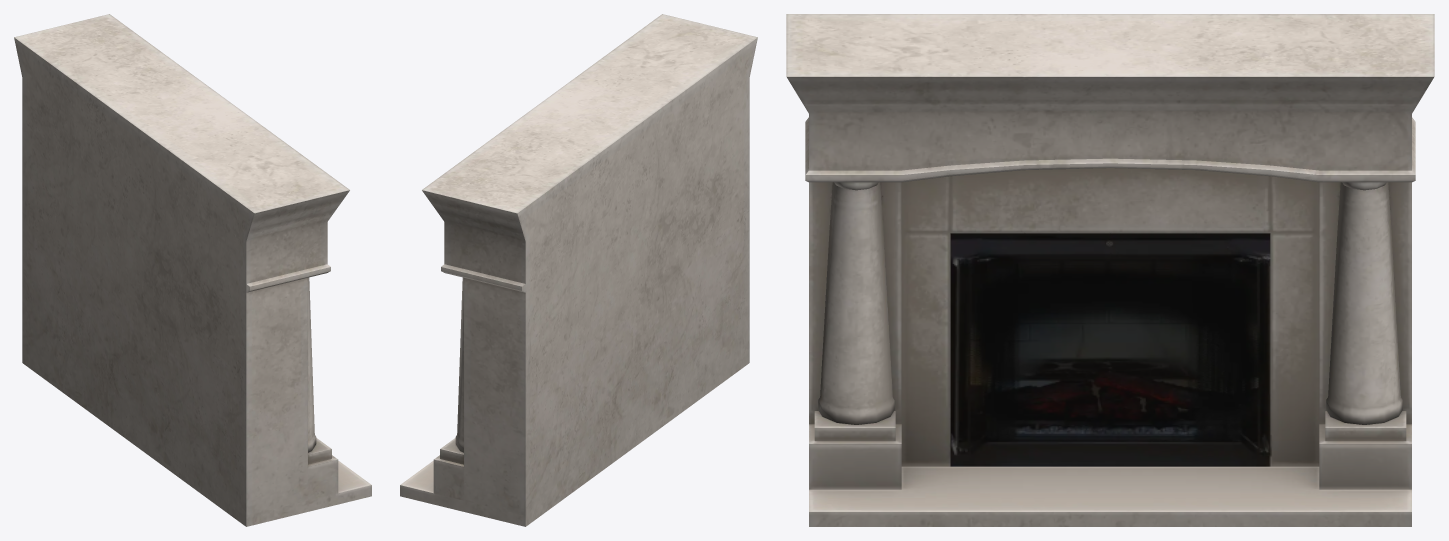
File: fireplace02.glb
The picture shows the model from 3 angles, left to right: view 1: azimuth 30°, elevation 25°; view 2: azimuth 150°, elevation 25°; view 3: azimuth 270°, elevation 25°; orthographic projection. The views are drawn at different scales.
Parts seen in each view (by area): view 1: fireplace02; view 2: fireplace02; view 3: fireplace02.
Part boxes in pixels (box(x1,y1,x2,y2)): fireplace02: box(14, 14, 371, 526); fireplace02: box(400, 14, 757, 526); fireplace02: box(786, 14, 1434, 526).
Bounding box in the file's own units: 0.4447 × 1.08 × 1.48.
1 material, 1 textured.
